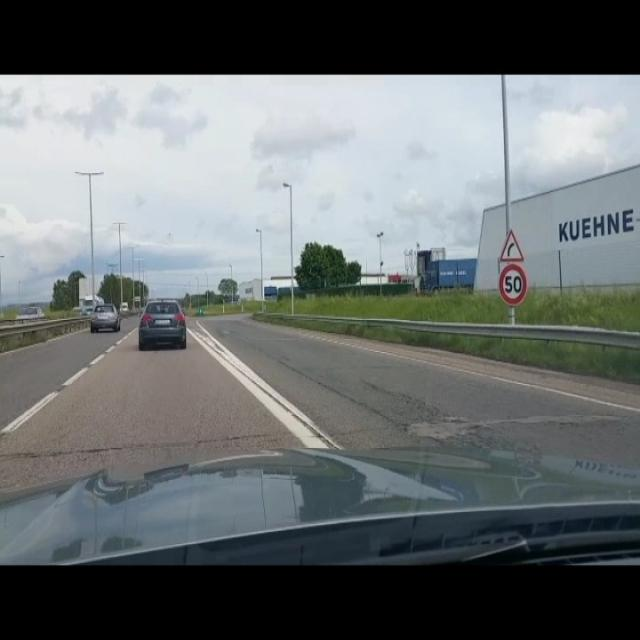speed_50: (497, 263, 528, 306)
turn_right: (498, 225, 527, 263)
